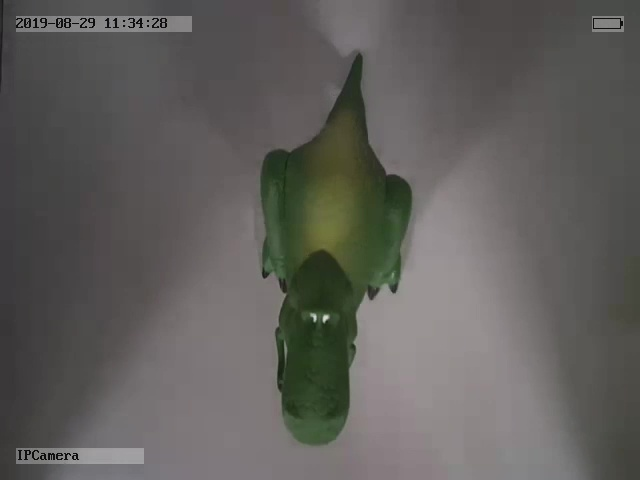rex: (255, 51, 411, 449)
